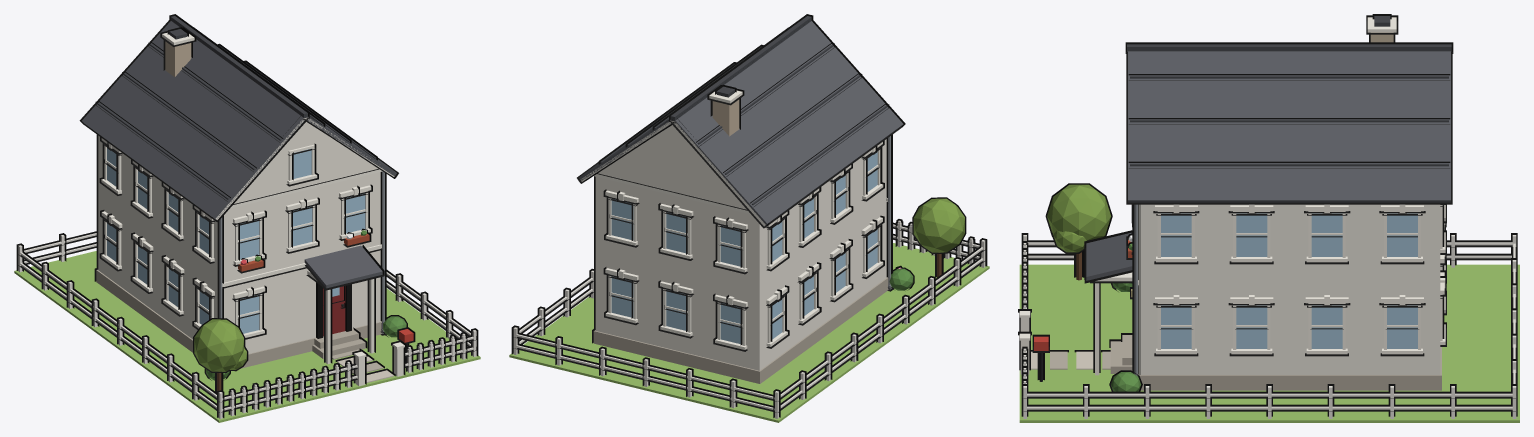
File: MustakilEv_avrupa_2_1.fbx
The picture shows the model from 3 angles, left to right: view 1: azimuth 30°, elevation 25°; view 2: azimuth 150°, elevation 25°; view 3: azimuth 270°, elevation 25°; orthographic projection. The views are drawn at different scales.
Parts seen in each view (by area): view 1: MustakilEv_avrupa_2_1; view 2: MustakilEv_avrupa_2_1; view 3: MustakilEv_avrupa_2_1.
Boxes of the visible parts, bbox=[...] form: MustakilEv_avrupa_2_1: bbox=[14, 14, 480, 422]; MustakilEv_avrupa_2_1: bbox=[509, 14, 989, 422]; MustakilEv_avrupa_2_1: bbox=[1018, 14, 1519, 422].
Bounding box in the file's own units: 10.18 × 9.54 × 13.85.
